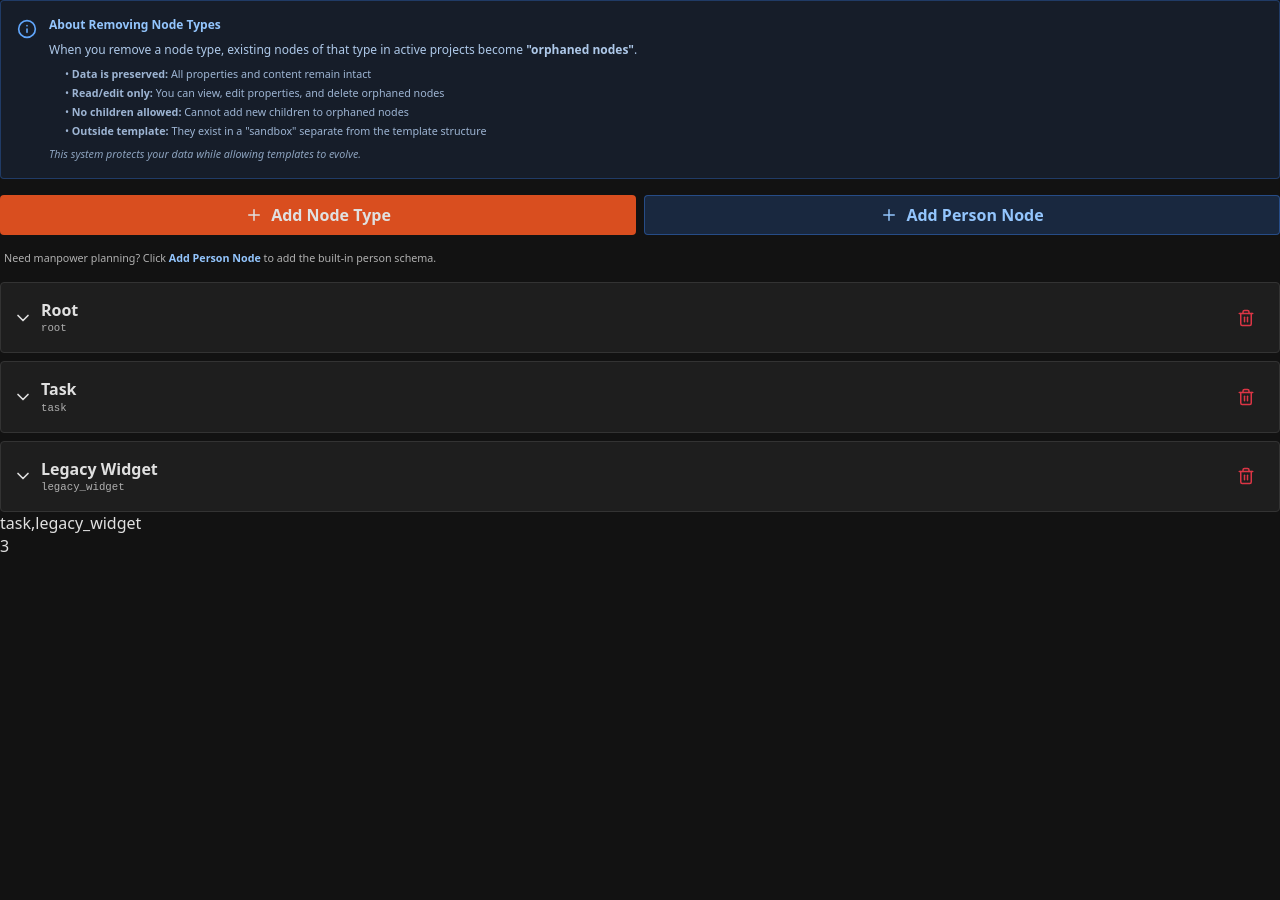
Scenario: NodeTypeEditor › removes deleted node type references from allowed_children
Click the button named "Delete node type" in the row of "Legacy Widget". click: [1246, 476]
box: [1229,464,1263,490]
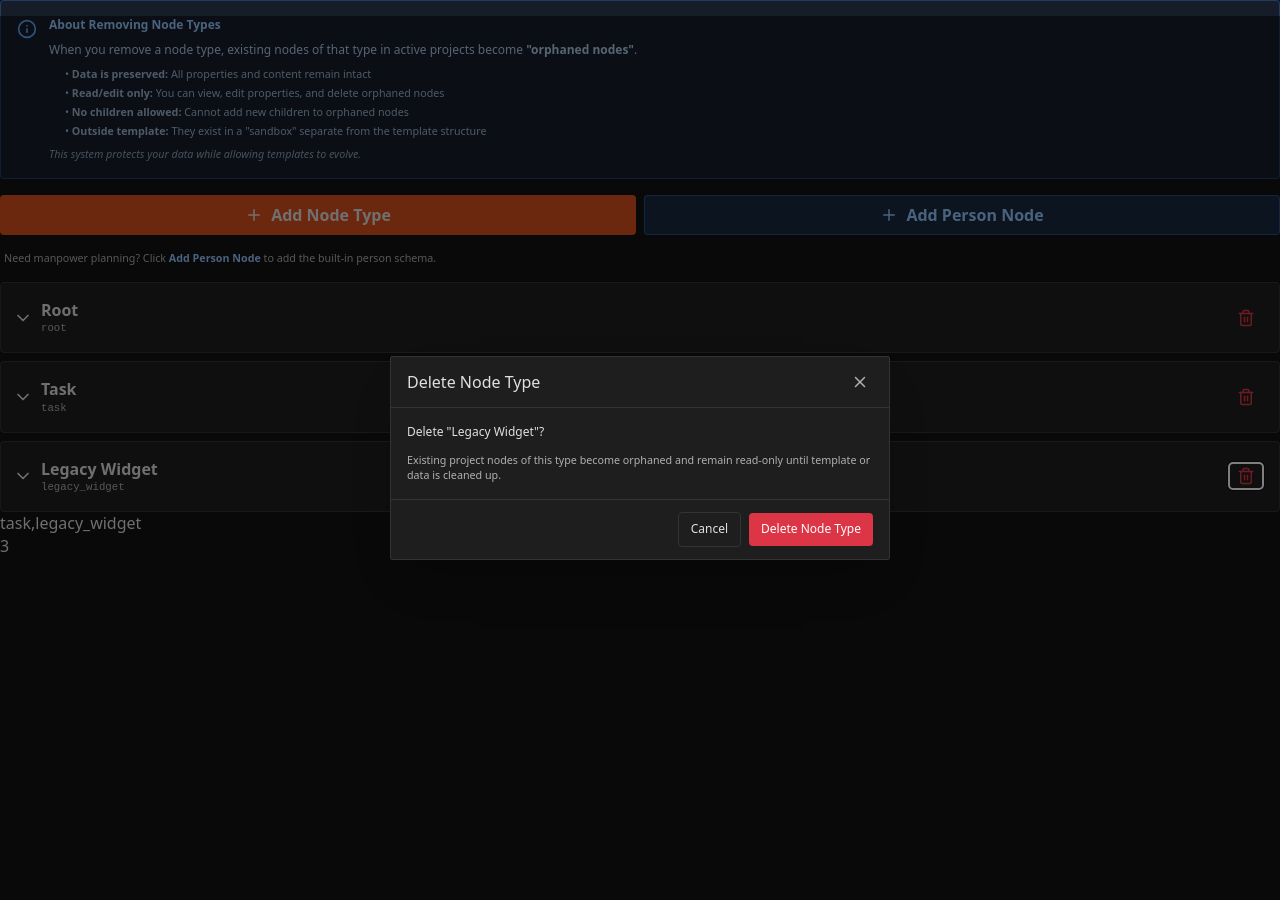
Click the button "Delete Node Type". click: [811, 529]
box: [749,513,873,546]
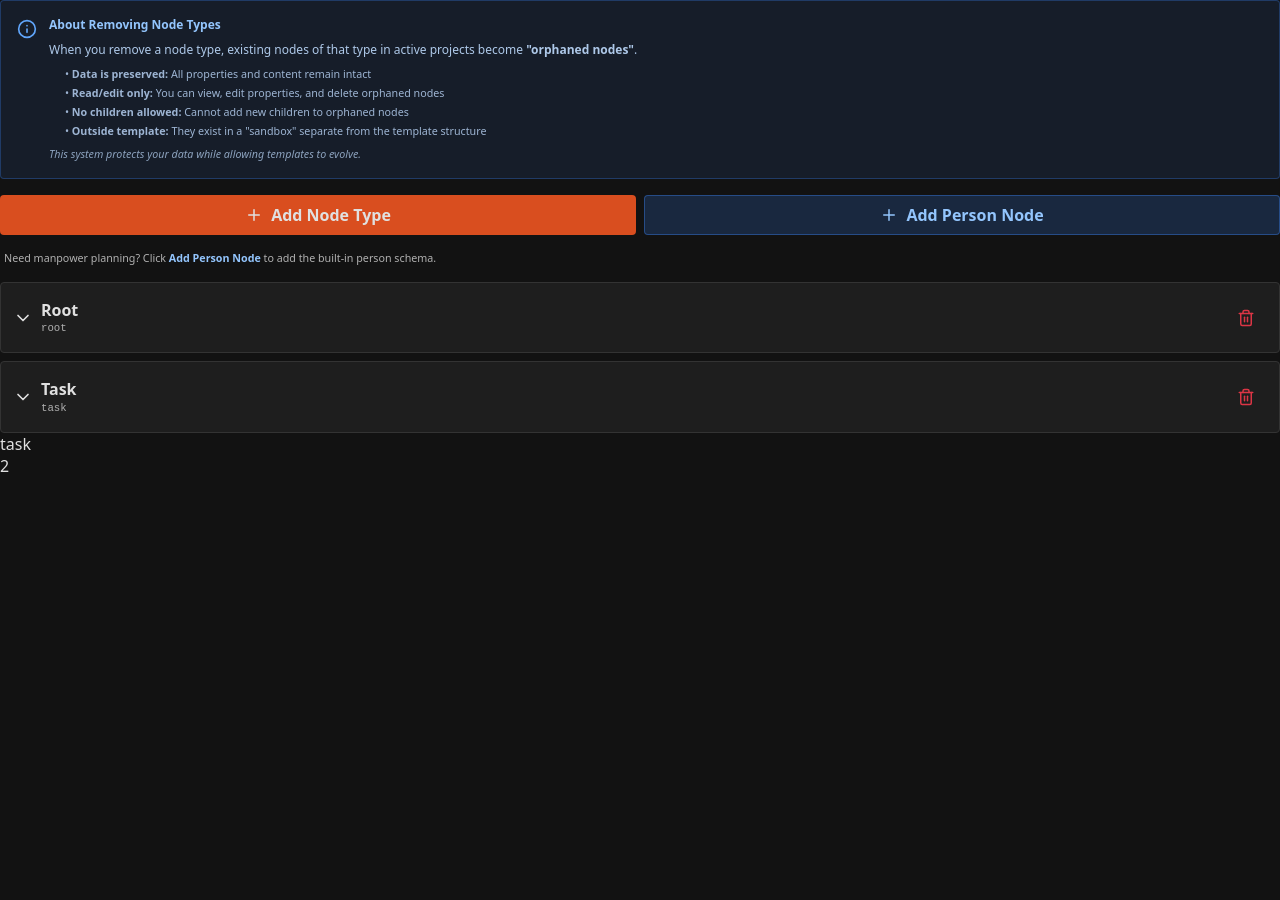
Result: the text with test id "node-type-count" reads "2" at [0,455,9,477]
Result: the text with test id "root-allowed-children" reads "task" at [0,433,31,455]
